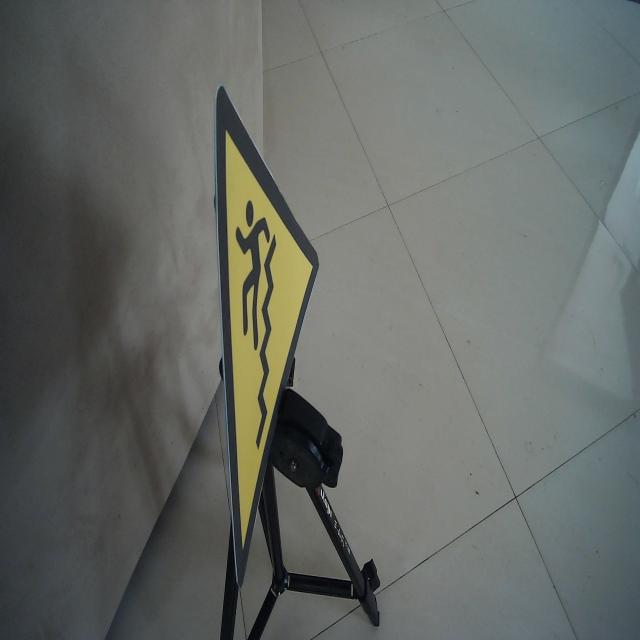stairs: (212, 80, 320, 592)
